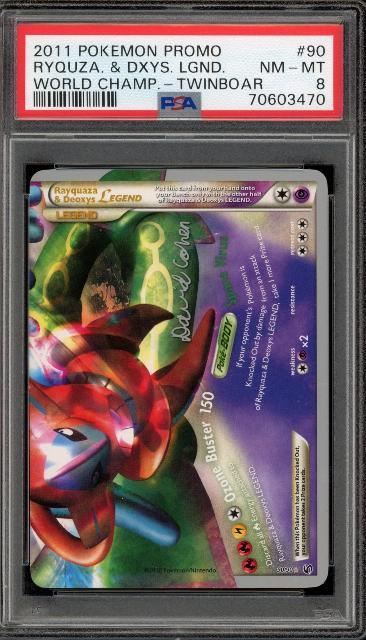Card: (25, 163, 333, 594)
Name: (48, 181, 151, 209)
